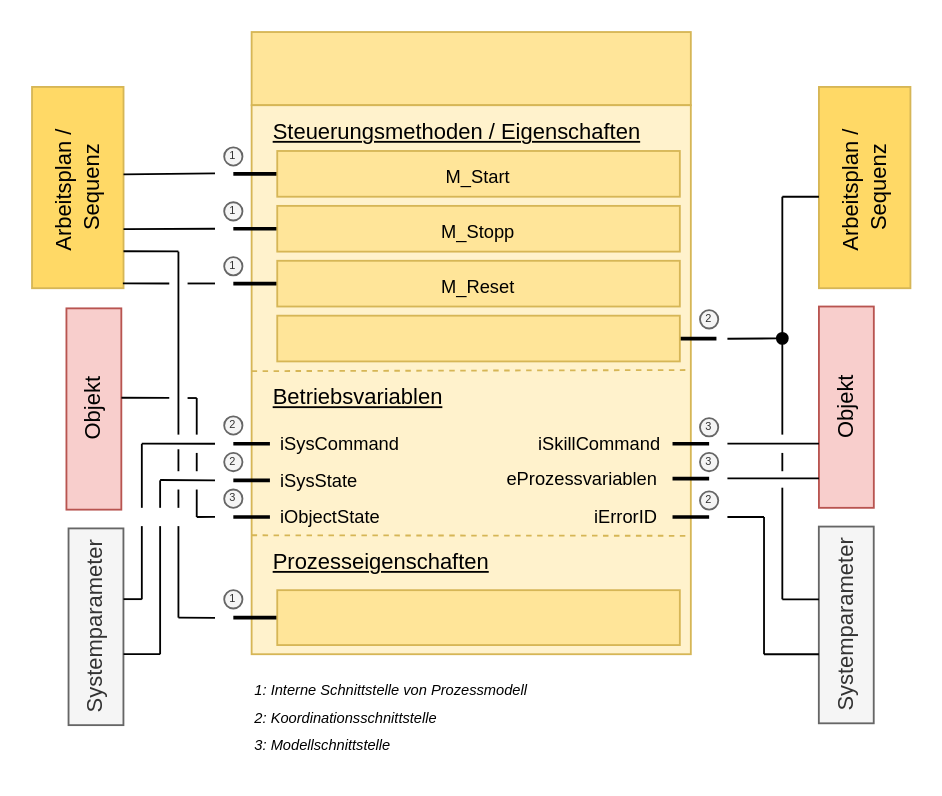
Image size: 942x796. Some labels were removed from this diagram. The centre of each missing label's shape, as x and y in pixels:
P_Prozessparameter (SET): the point at 477,616
P_State (GET): the point at 477,337
Skill: the point at 470,67
